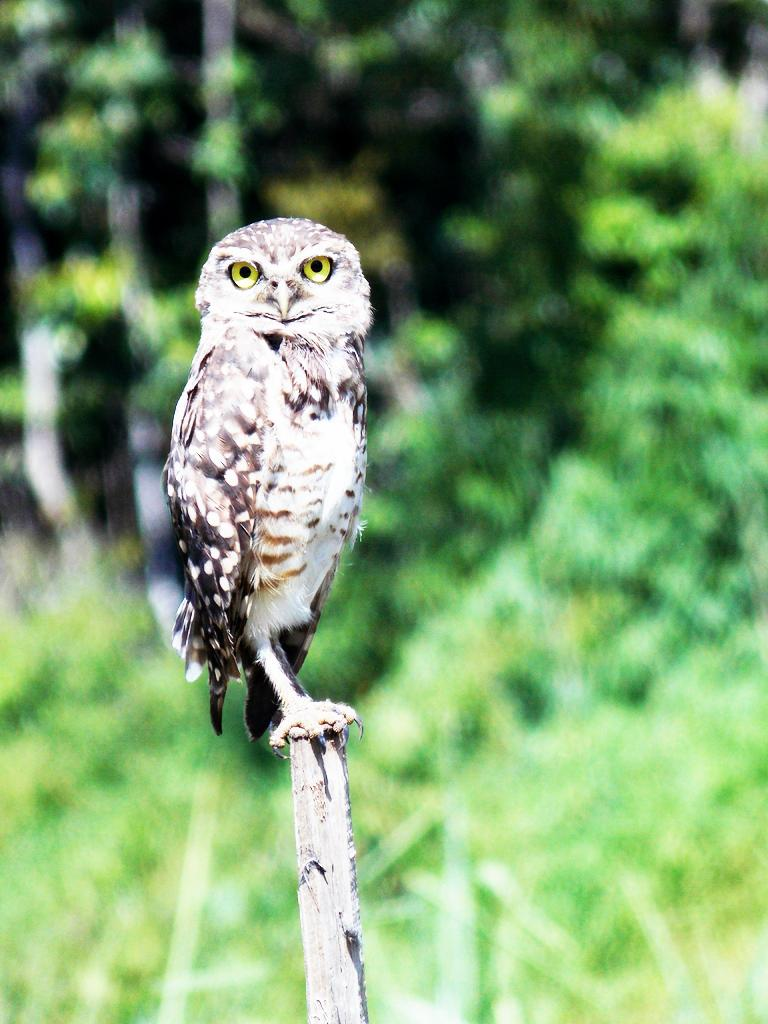Owl: (158, 218, 376, 758)
